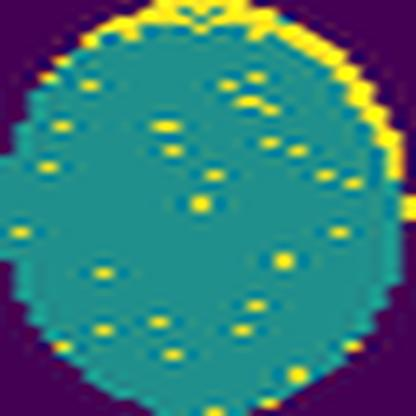Edge-Loc: (80, 0, 409, 184)
